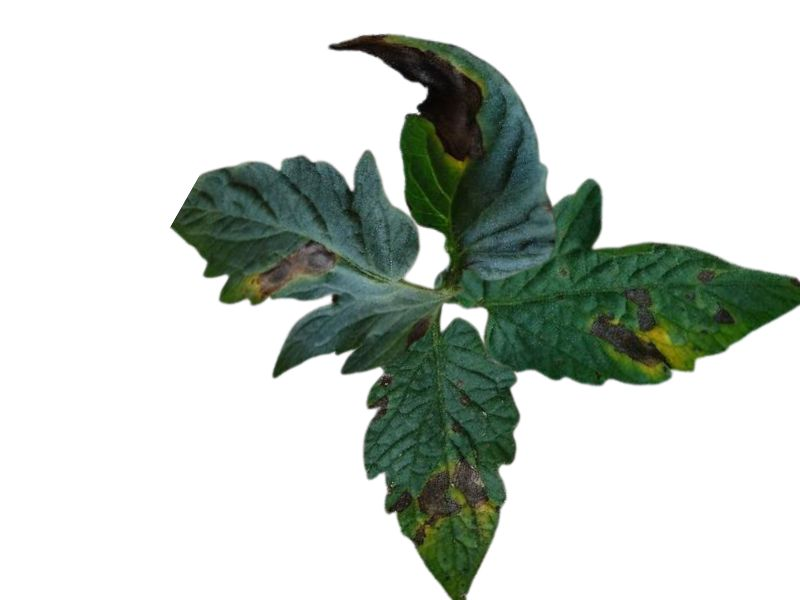Early_blight: (329, 34, 486, 161), (412, 457, 490, 549), (590, 286, 674, 370), (244, 238, 338, 304), (371, 373, 392, 422), (406, 315, 429, 352), (388, 488, 411, 515), (713, 304, 736, 326), (696, 269, 715, 284)
